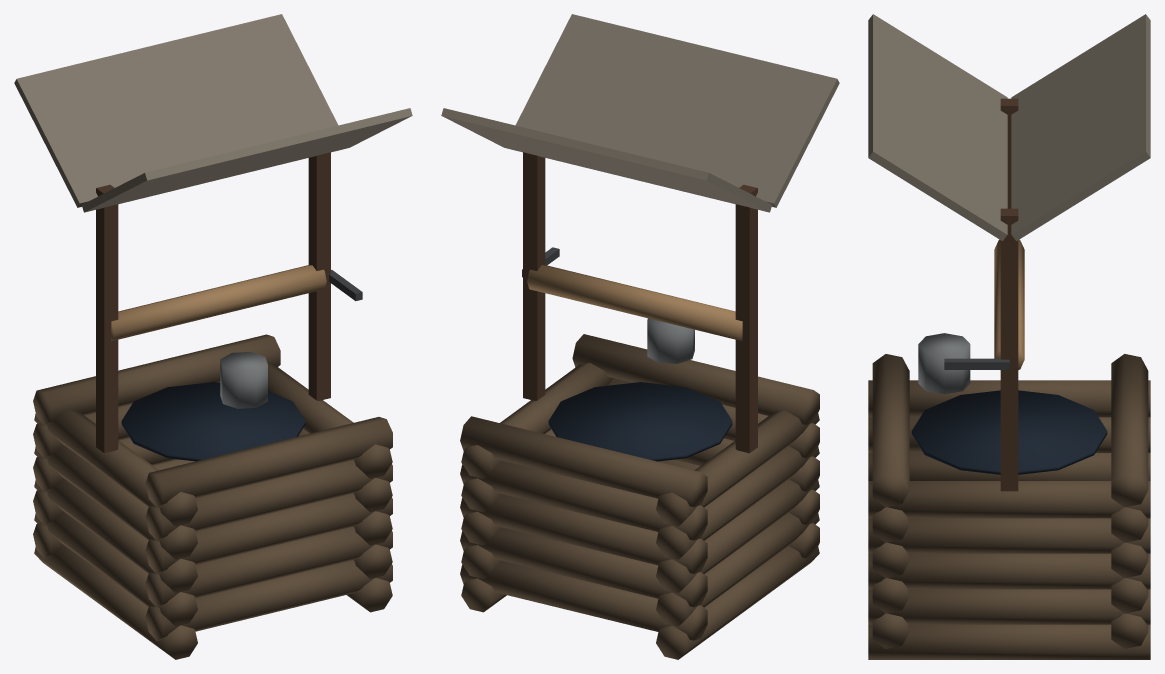
Rendered from well.glb.
The picture shows the model from 3 angles, left to right: view 1: azimuth 30°, elevation 25°; view 2: azimuth 150°, elevation 25°; view 3: azimuth 270°, elevation 25°; orthographic projection. The views are drawn at different scales.
Parts seen in each view (by area): view 1: Well; view 2: Well; view 3: Well.
Boxes of the visible parts, left/top/right/bottom form: Well: left=14, top=14, right=412, bottom=659; Well: left=441, top=14, right=839, bottom=659; Well: left=868, top=14, right=1150, bottom=659.
Bounding box in the file's own units: 1.5 × 2.66 × 1.3.
